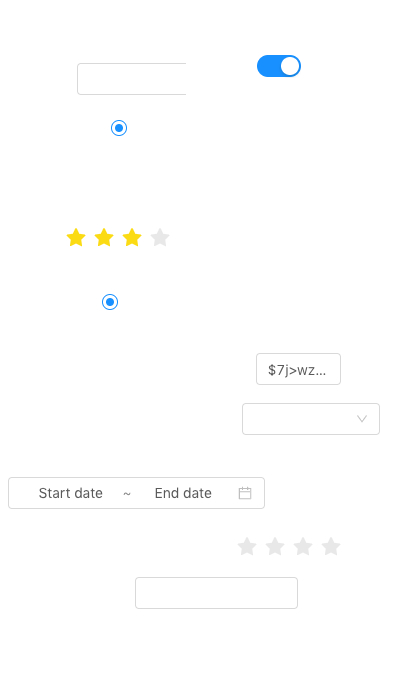Input: (135, 577, 298, 609), (77, 63, 186, 95), (256, 353, 341, 385)
Radio: (111, 117, 127, 137), (102, 291, 118, 311)
RangePicker: (8, 477, 265, 509)
Rate: (66, 221, 186, 253), (237, 530, 357, 562)
Select: (242, 403, 380, 435)
Switch: (257, 54, 301, 78)
